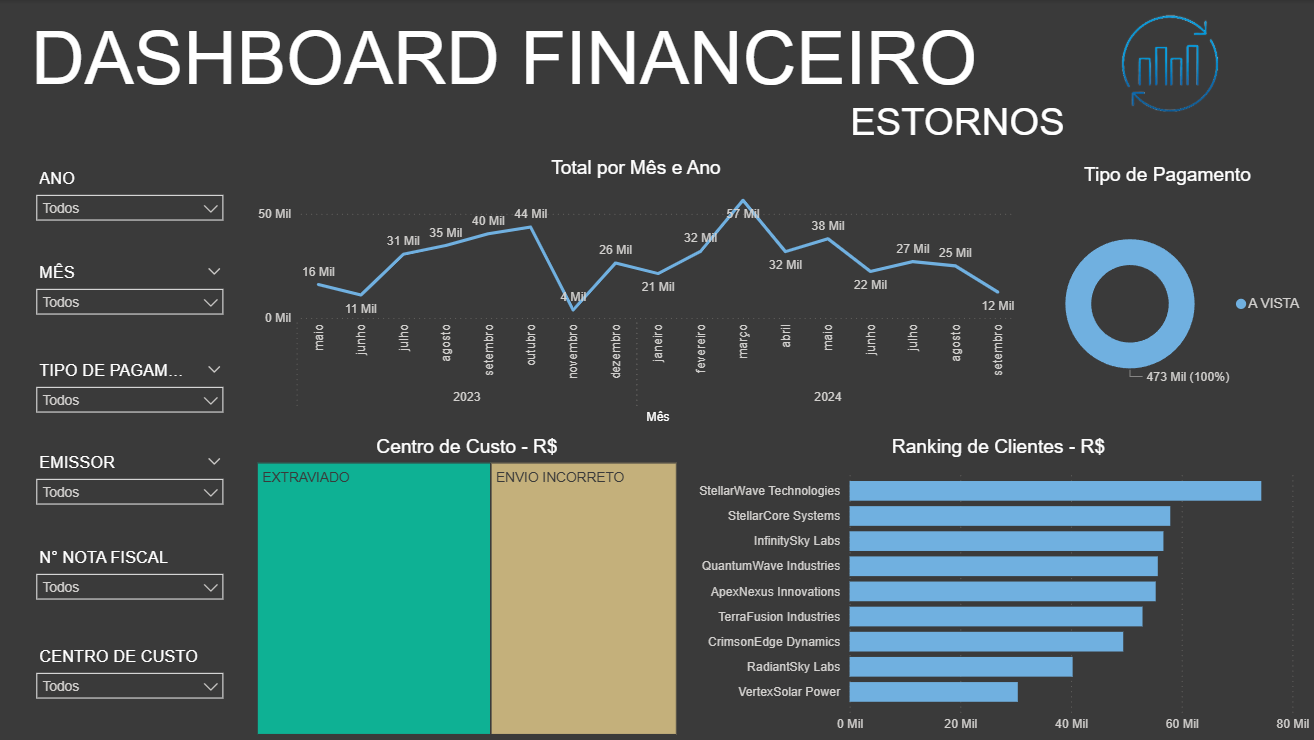

Layout of this report page (visuals, bound fields, positions):
{"tool":"powerbi","page":{"name":"Estornos","canvas":[1280,720],"ordinal":2},"visuals":[{"type":"slicer","fields":{"Values":["BASE.ANO"]},"box":[26.3,159.5,202.3,73.9],"z":0},{"type":"slicer","fields":{"Values":["BASE.MÊS"]},"box":[26.3,250.9,202.3,68.1],"z":1000},{"type":"textbox","box":[26.3,10.7,1001.8,102.1],"z":2000},{"type":"slicer","fields":{"Values":["BASE.EMISSOR"]},"box":[26.3,435.7,202.3,64.2],"z":3000},{"type":"slicer","fields":{"Values":["BASE.N° NOTA FISCAL"]},"box":[26.3,528.1,202.3,72.9],"z":4000},{"type":"slicer","fields":{"Values":["BASE.TIPO DE PAGAMENTO"]},"box":[26.3,346.3,202.3,64.2],"z":5000},{"type":"barChart","title":"Ranking de Clientes - R$","fields":{"Category":["BASE.EMISSOR"],"Y":["Sum(BASE.R$ TOTAL)"]},"box":[664.3,424.1,615.7,295.7],"z":6000},{"type":"slicer","fields":{"Values":["BASE.CENTRO DE CUSTO"]},"box":[26.3,624.4,202.3,72.9],"z":7000},{"type":"image","box":[1029.1,0,219.8,124.5],"z":8000},{"type":"textbox","box":[822.9,92.4,278.2,67.1],"z":9000},{"type":"treemap","title":"Centro de Custo - R$","fields":{"Values":["Sum(BASE.R$ TOTAL)"],"Group":["BASE.CENTRO DE CUSTO"]},"box":[246.1,424.1,418.2,295.7],"z":10000},{"type":"donutChart","title":"Tipo de Pagamento","fields":{"Y":["Sum(BASE.R$ TOTAL)"],"Category":["BASE.TIPO DE PAGAMENTO"]},"box":[993.1,159.5,286.9,250.9],"z":11000},{"type":"lineChart","title":"Total por Mês e Ano","fields":{"Y":["Sum(BASE.R$ TOTAL)"],"Category":["BASE.DATA DE EMISSÃO.Variation.Hierarquia de datas.Ano","BASE.DATA DE EMISSÃO.Variation.Hierarquia de datas.Mês"]},"box":[246.1,152.7,747,264.6],"z":12000}]}

Visuals, with their boxes in screenshot pixels (x1, y1, x2, y2), scaled from the page's 1280x720 canvas onto the 1314x740 screenshot:
slicer - BASE.ANO: select_region(27, 164, 235, 240)
slicer - BASE.MÊS: select_region(27, 258, 235, 328)
textbox: select_region(27, 11, 1055, 116)
slicer - BASE.EMISSOR: select_region(27, 448, 235, 514)
slicer - BASE.N° NOTA FISCAL: select_region(27, 543, 235, 618)
slicer - BASE.TIPO DE PAGAMENTO: select_region(27, 356, 235, 422)
"Ranking de Clientes - R$" barChart: select_region(682, 436, 1313, 739)
slicer - BASE.CENTRO DE CUSTO: select_region(27, 642, 235, 717)
image: select_region(1056, 0, 1282, 128)
textbox: select_region(845, 95, 1130, 164)
"Centro de Custo - R$" treemap: select_region(253, 436, 682, 739)
"Tipo de Pagamento" donutChart: select_region(1019, 164, 1313, 422)
"Total por Mês e Ano" lineChart: select_region(253, 157, 1019, 429)
